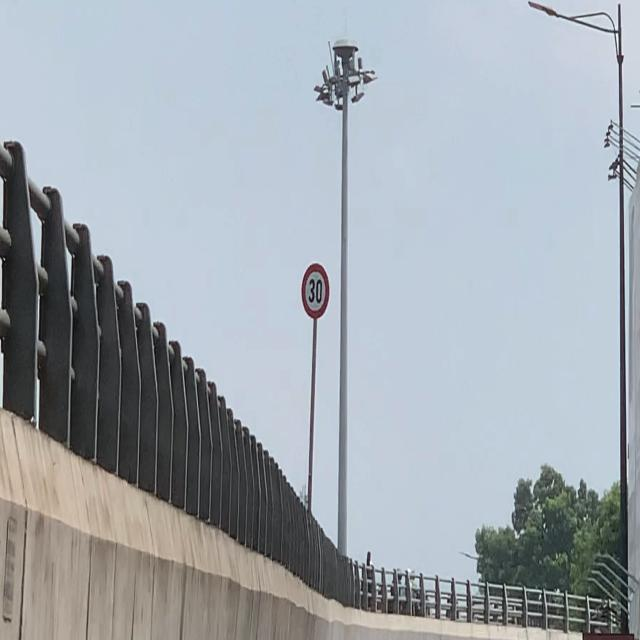Toc do toi da: (302, 260, 331, 322)
